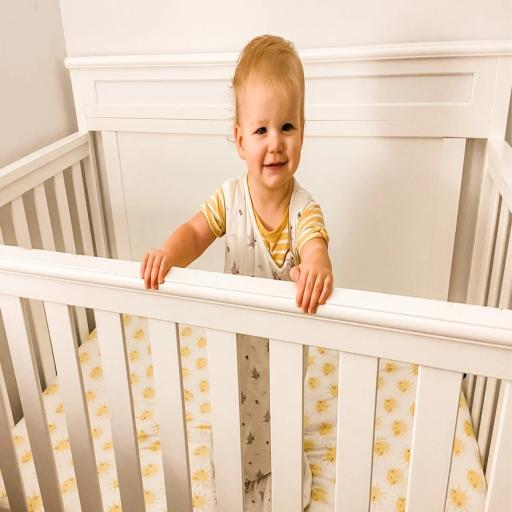baby: (141, 36, 332, 313)
crib: (0, 43, 511, 511)
